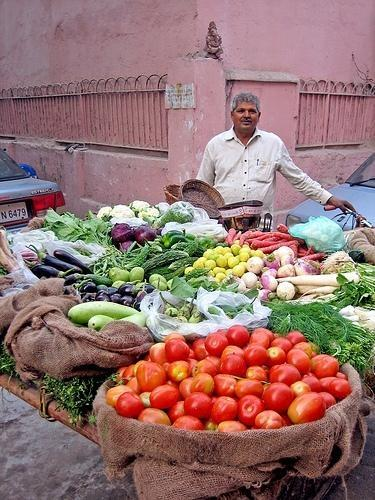bicycle: (324, 204, 374, 230)
car: (0, 148, 375, 232)
